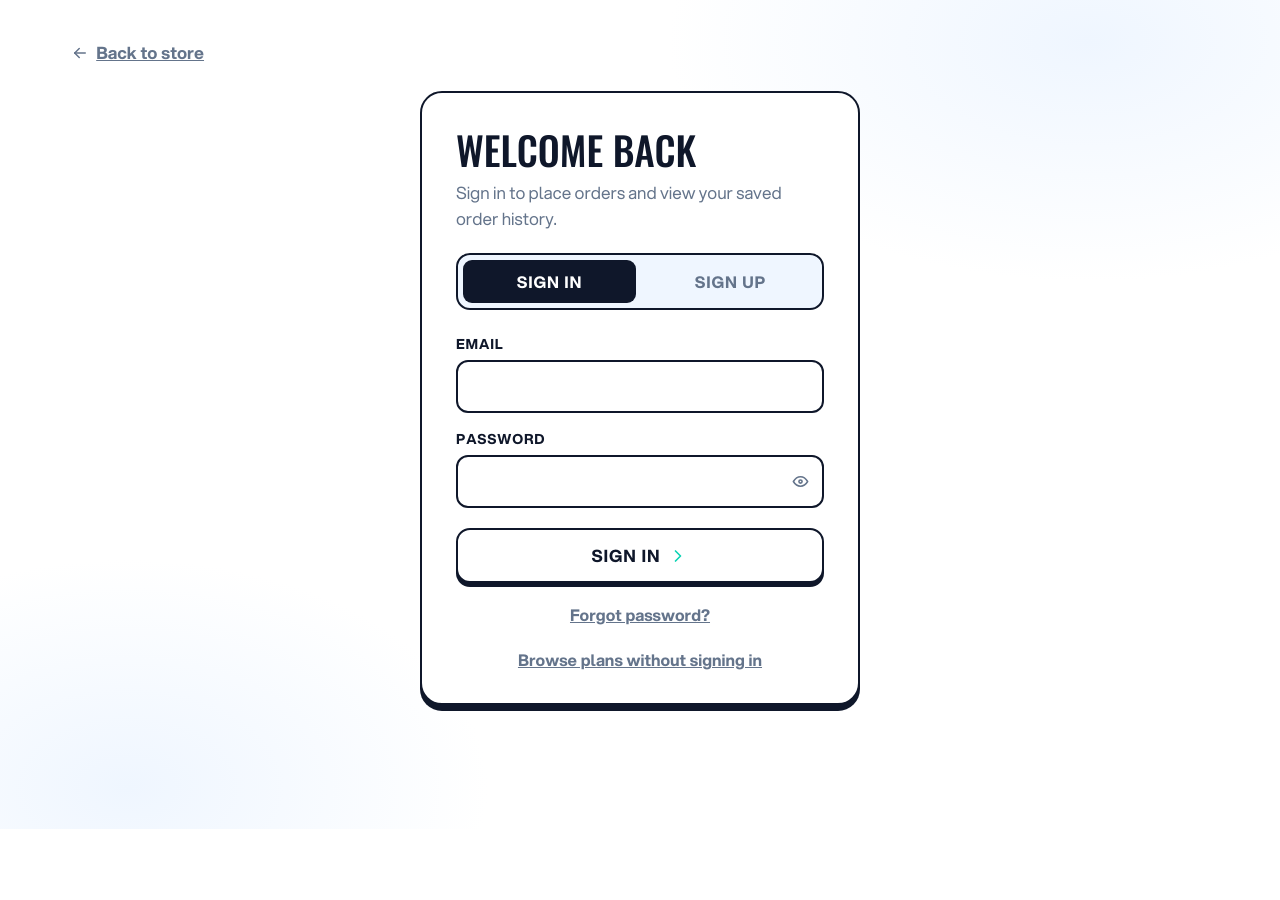
real account flows without demo authentication › lets Supabase authenticate existing accounts with a shorter legacy password
Type "customer@example.test" into the field labelled "Email" at (640, 386), box [456,360,824,413]
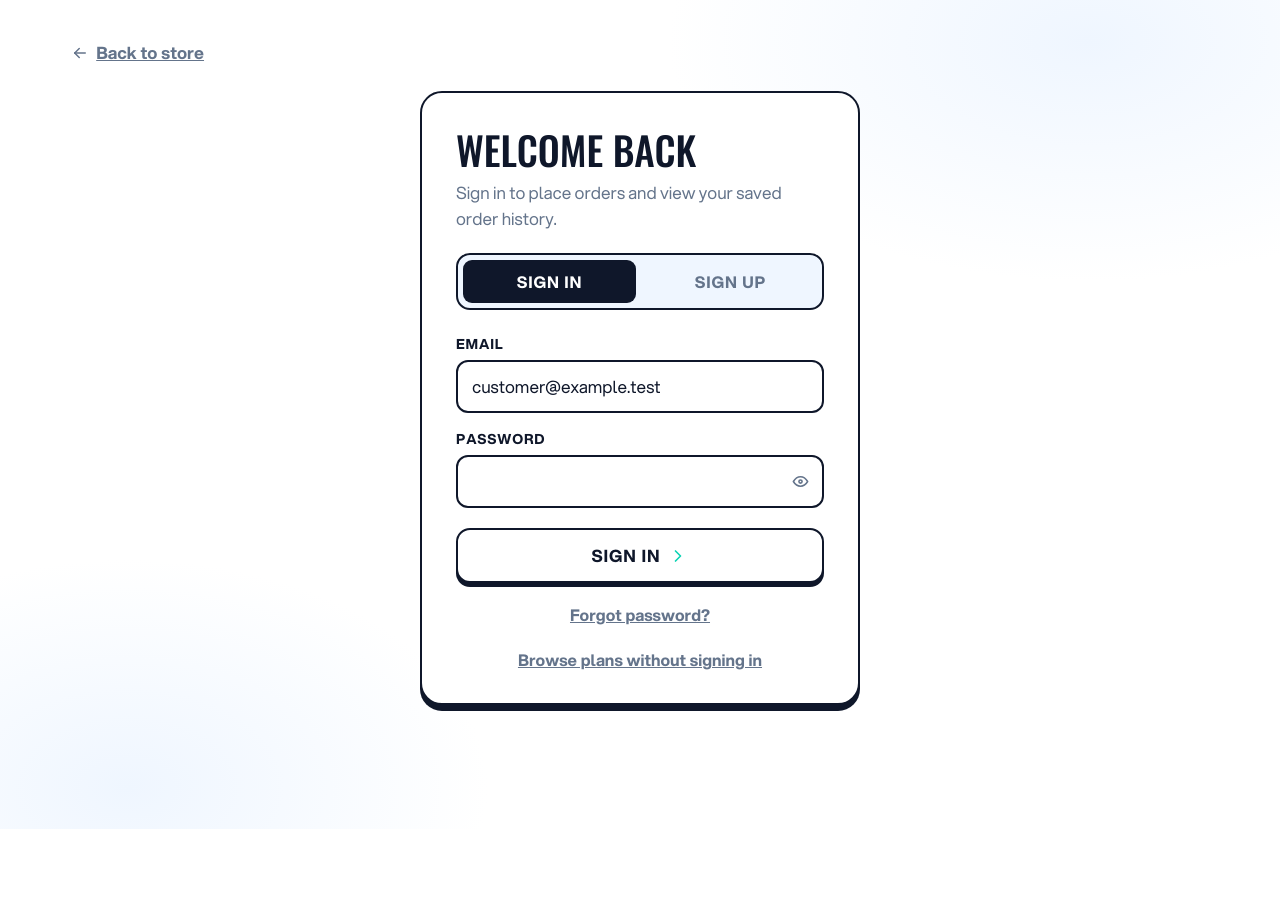
Type "legacy" into the password field labelled "Password" at (640, 482), box [456,455,824,508]
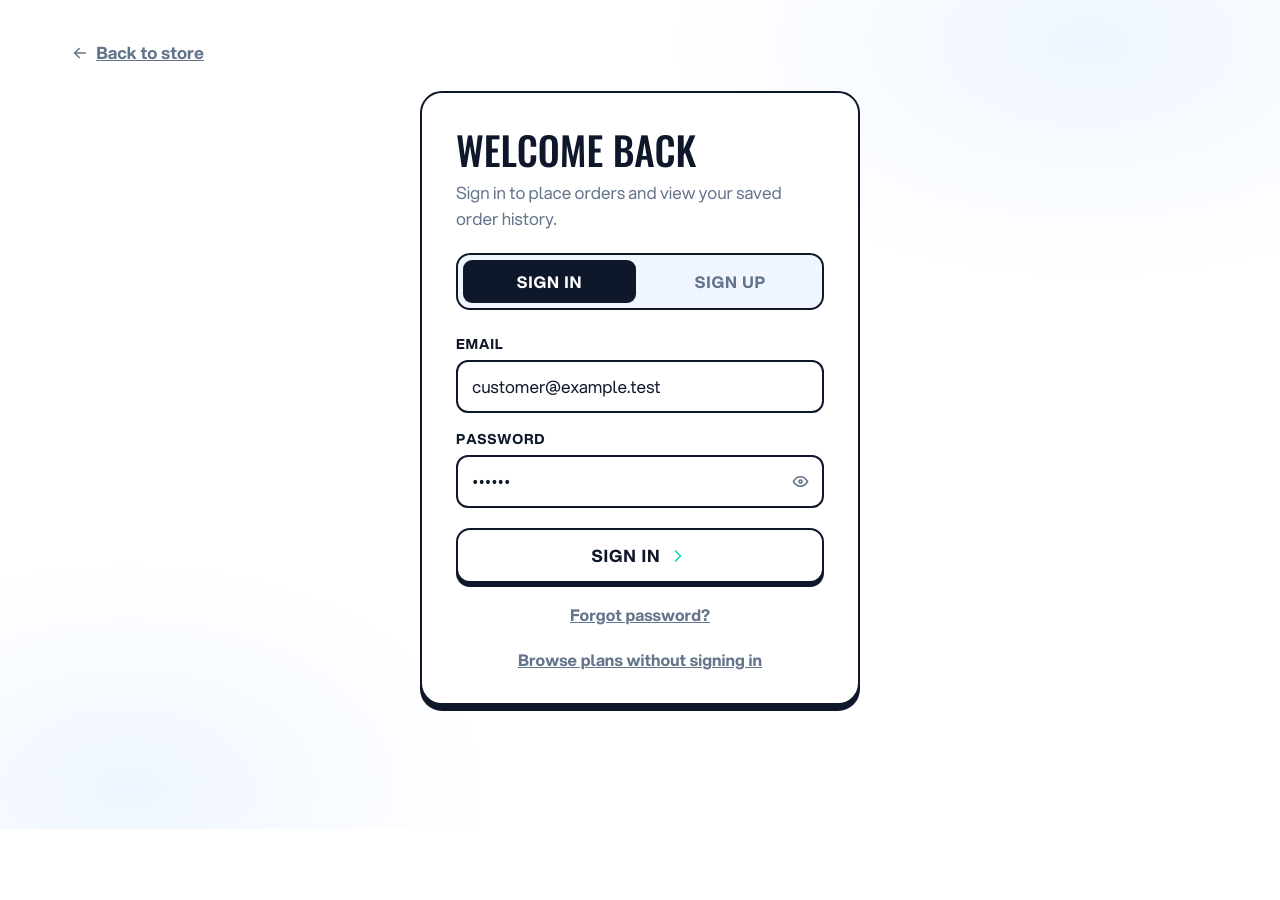
Submit the form, box [456,334,824,583]
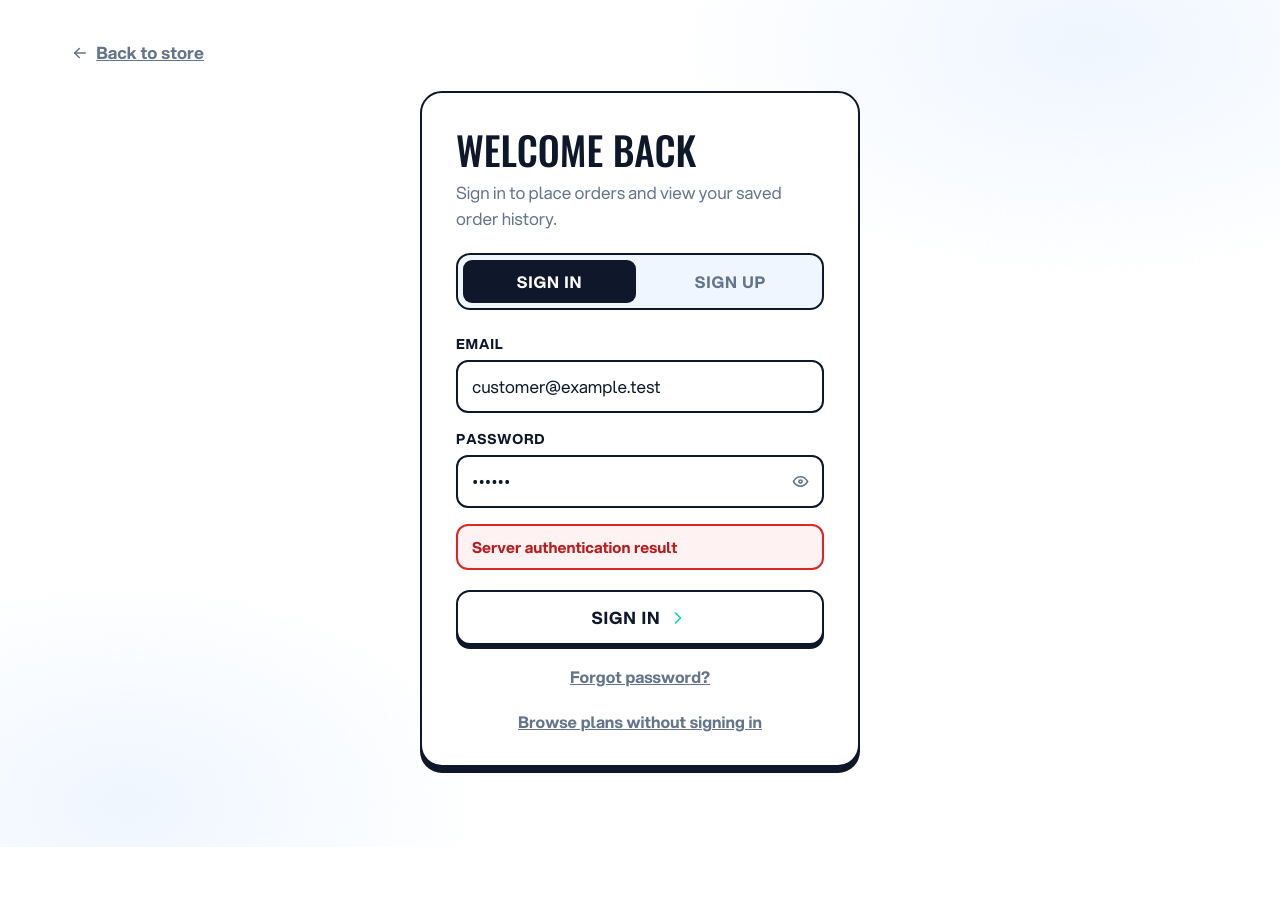
Check: the text "Server authentication result" is shown, box [456,524,824,570]
